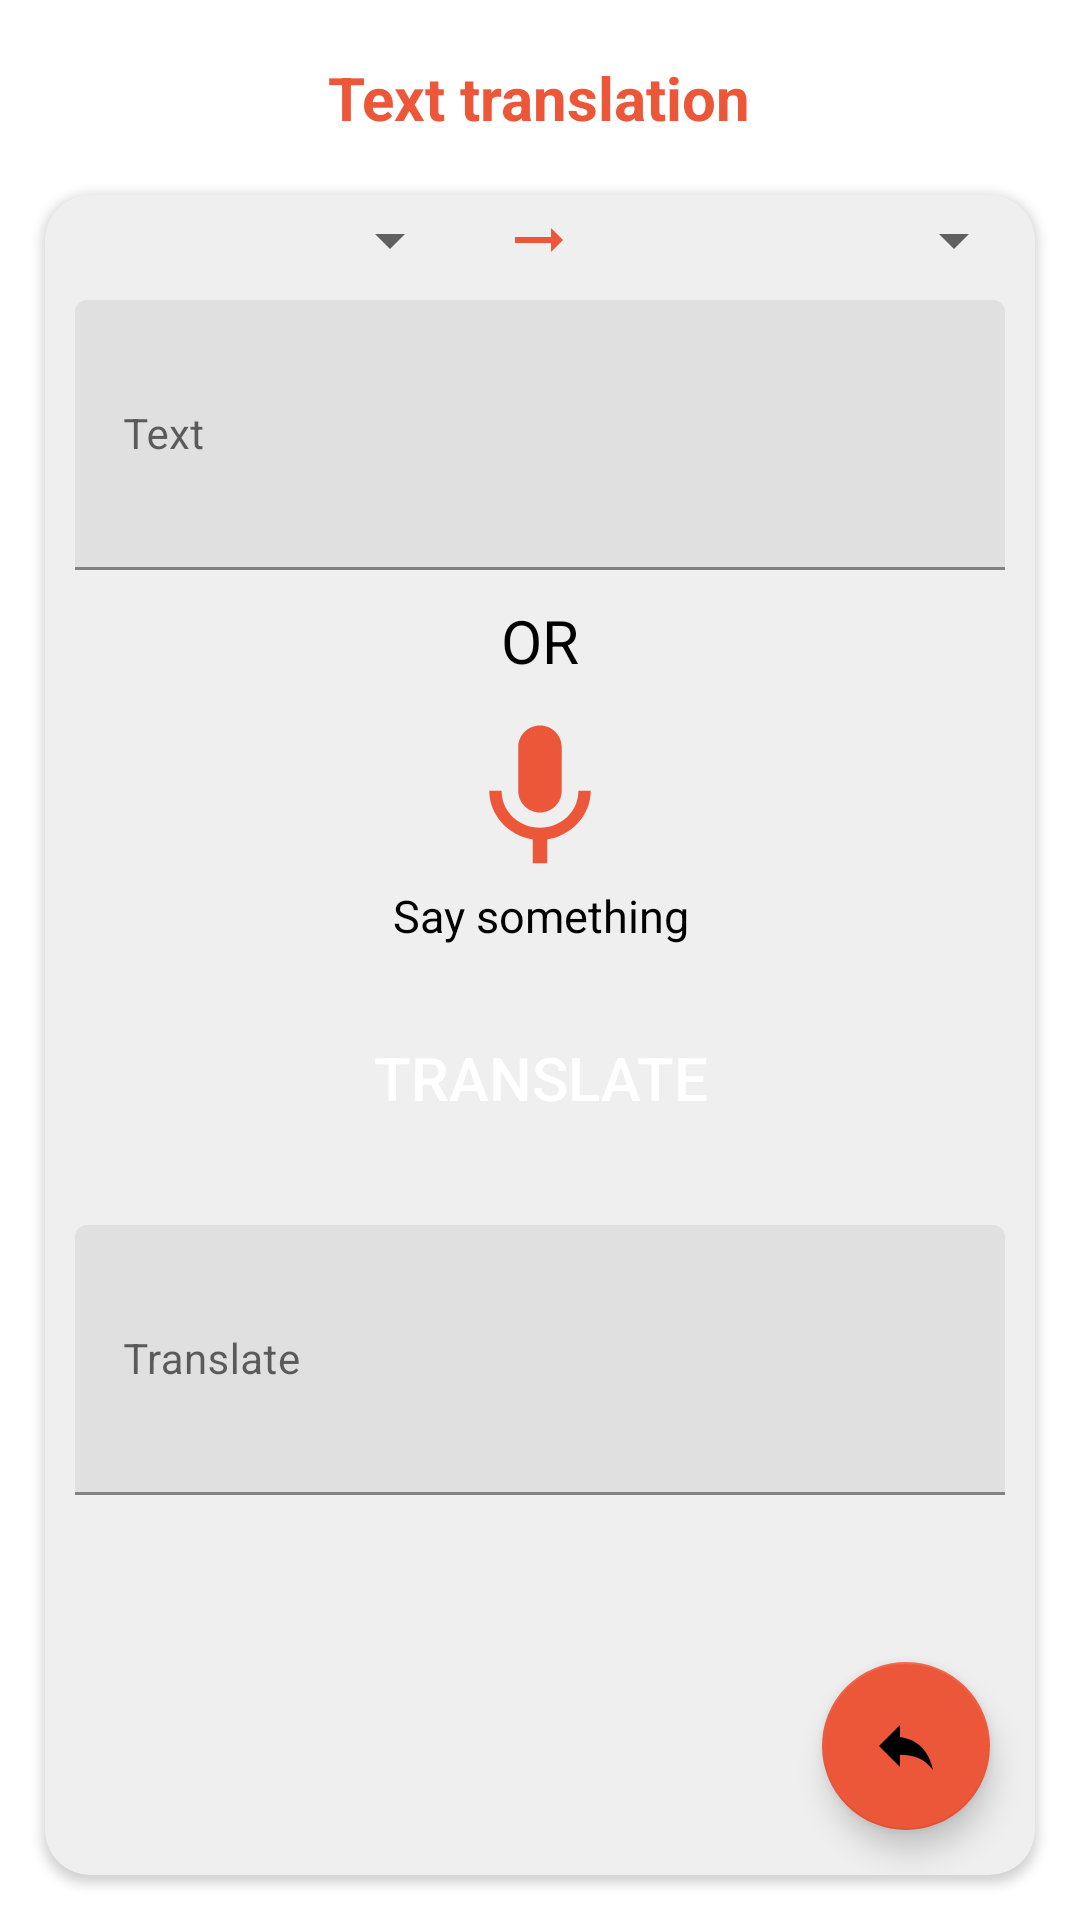

Icons on this 1080w x 1920h Android screen, each with the point to tap as (x,y):
arrow right: (539,240)
back: (906,1746)
mic: (540,794)
